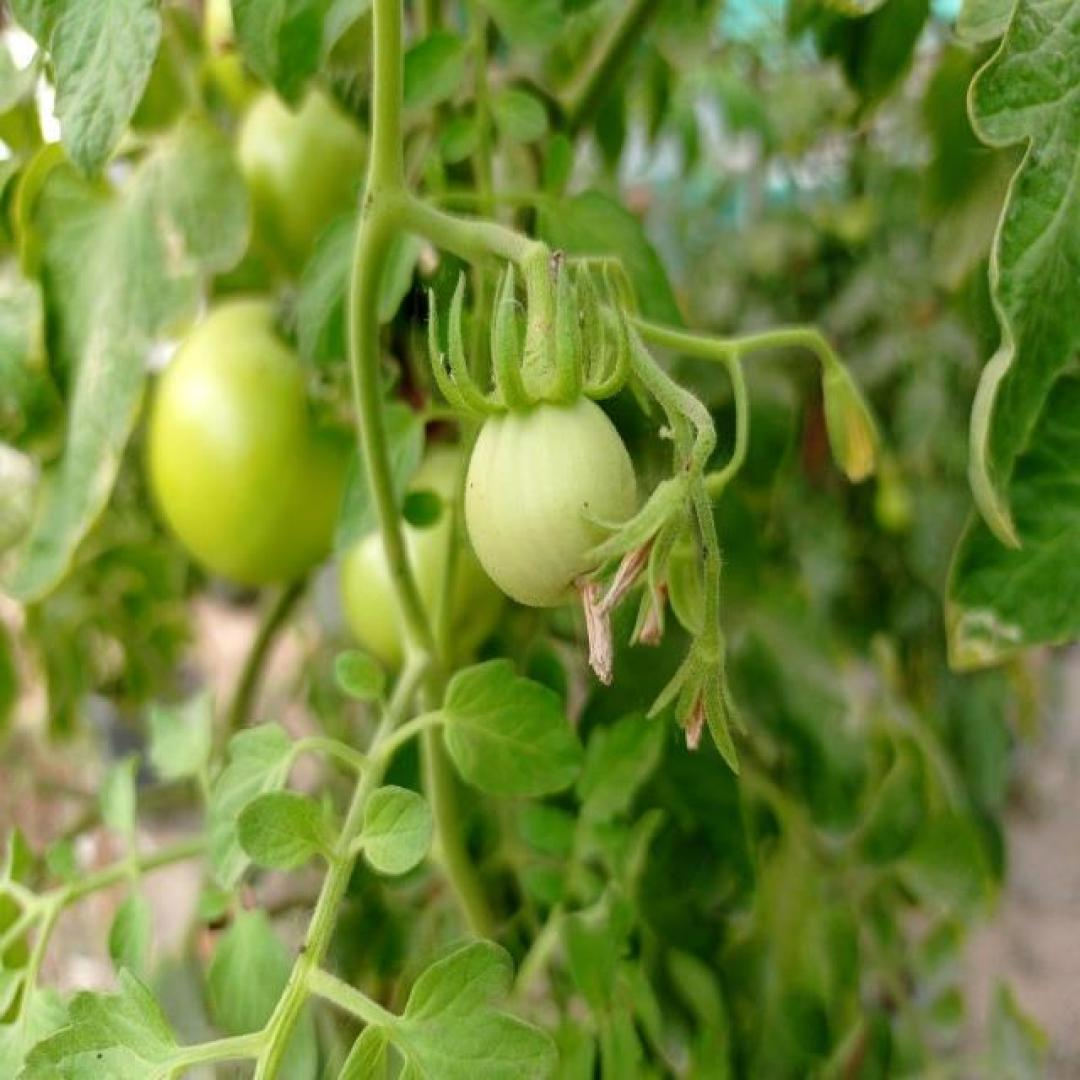mentah: (146, 297, 354, 589), (461, 385, 640, 609)
